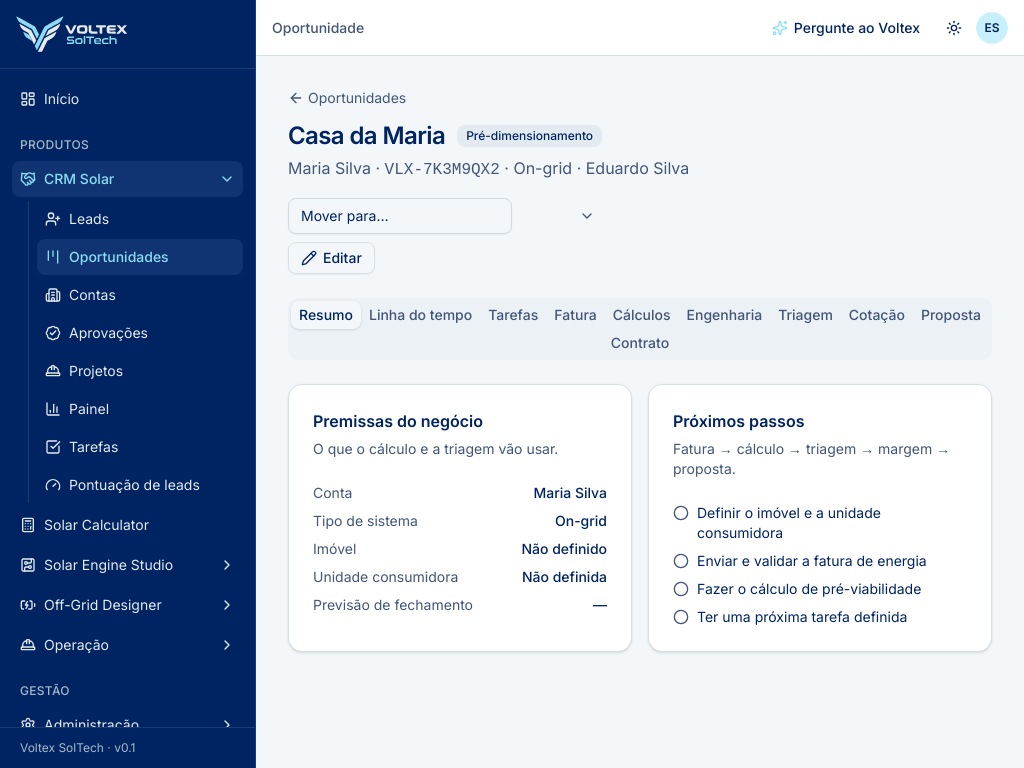
Test: Oportunidade · Triagem › mostra quem liberou e o histórico de avaliações
This screenshot has width=1024, height=768.
Click the tab "Triagem": {"x": 805, "y": 315} left=770, top=301, right=841, bottom=329
(page scrolled)
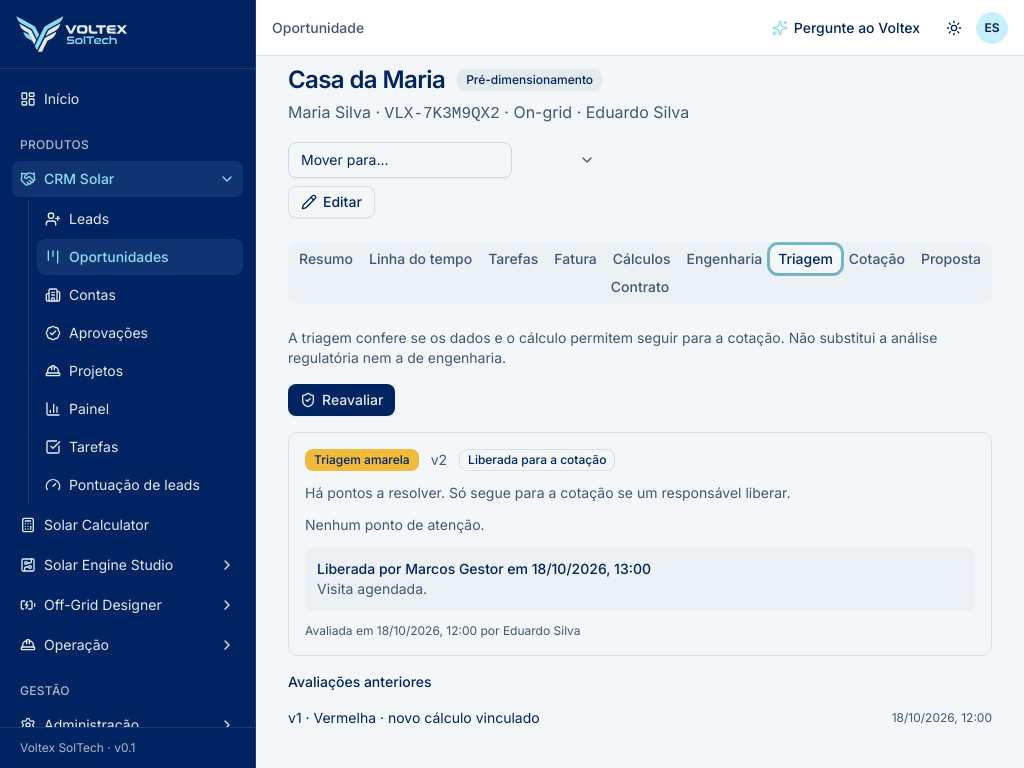
Result: the text "Liberada por Marcos Gestor em 18/10/2026, 13:00" is shown at left=317, top=560, right=651, bottom=577
Result: the text "Visita agendada." is shown at left=317, top=580, right=427, bottom=597
Result: the text "v1 · Vermelha · novo cálculo vinculado" is shown at left=288, top=708, right=540, bottom=728
